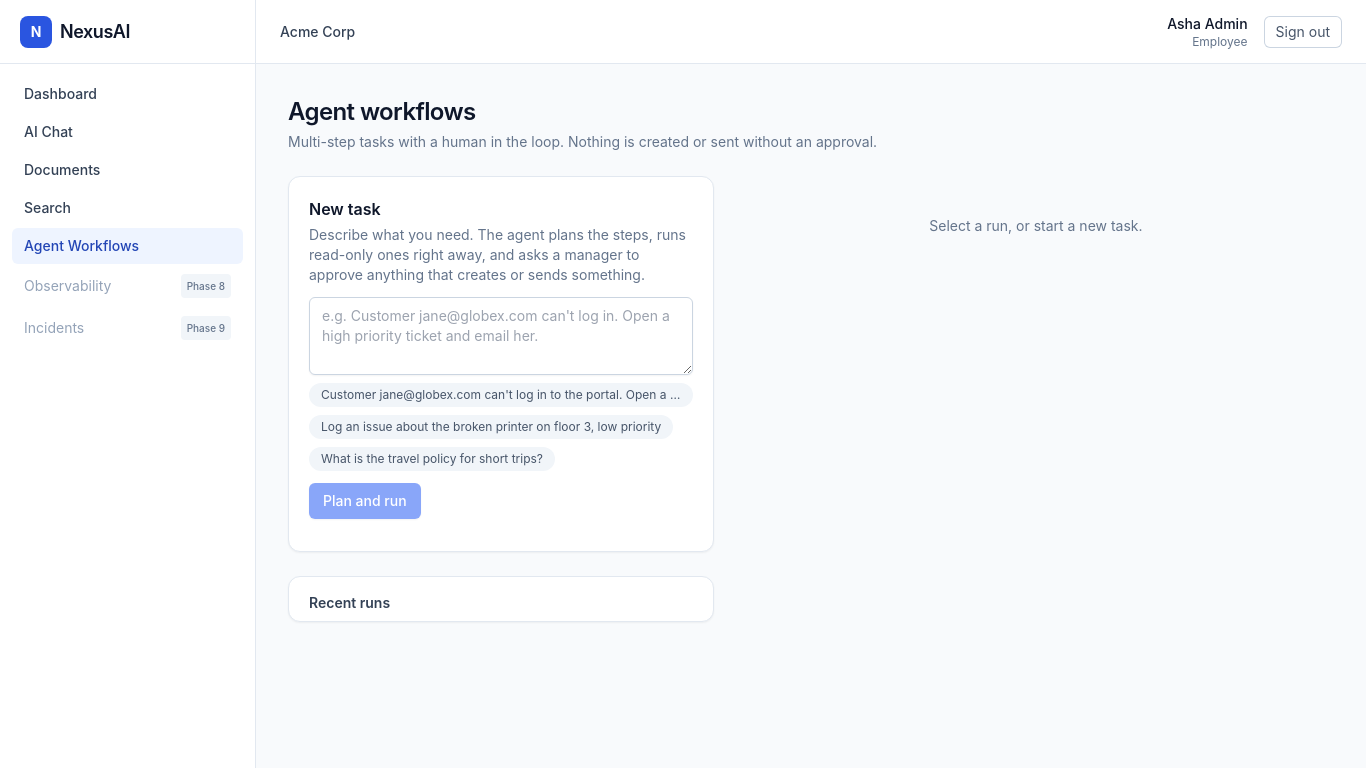
Test case: Agent workflows › plans a task and shows the steps waiting for approval
Click the button "Customer jane@globex.com can't log in" at (501, 395), box [309, 383, 693, 407]
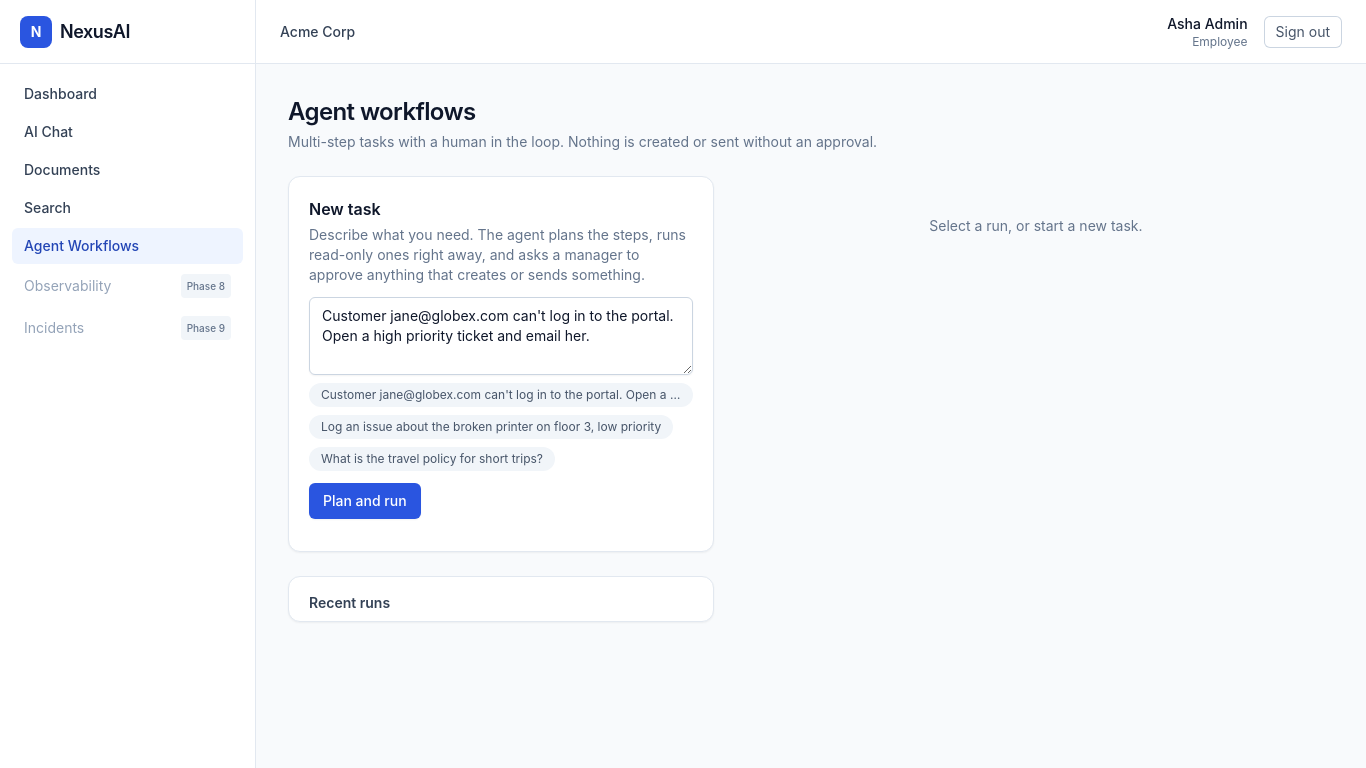
Click the button "Plan and run" at (365, 501), box [309, 483, 421, 519]
(page scrolled)
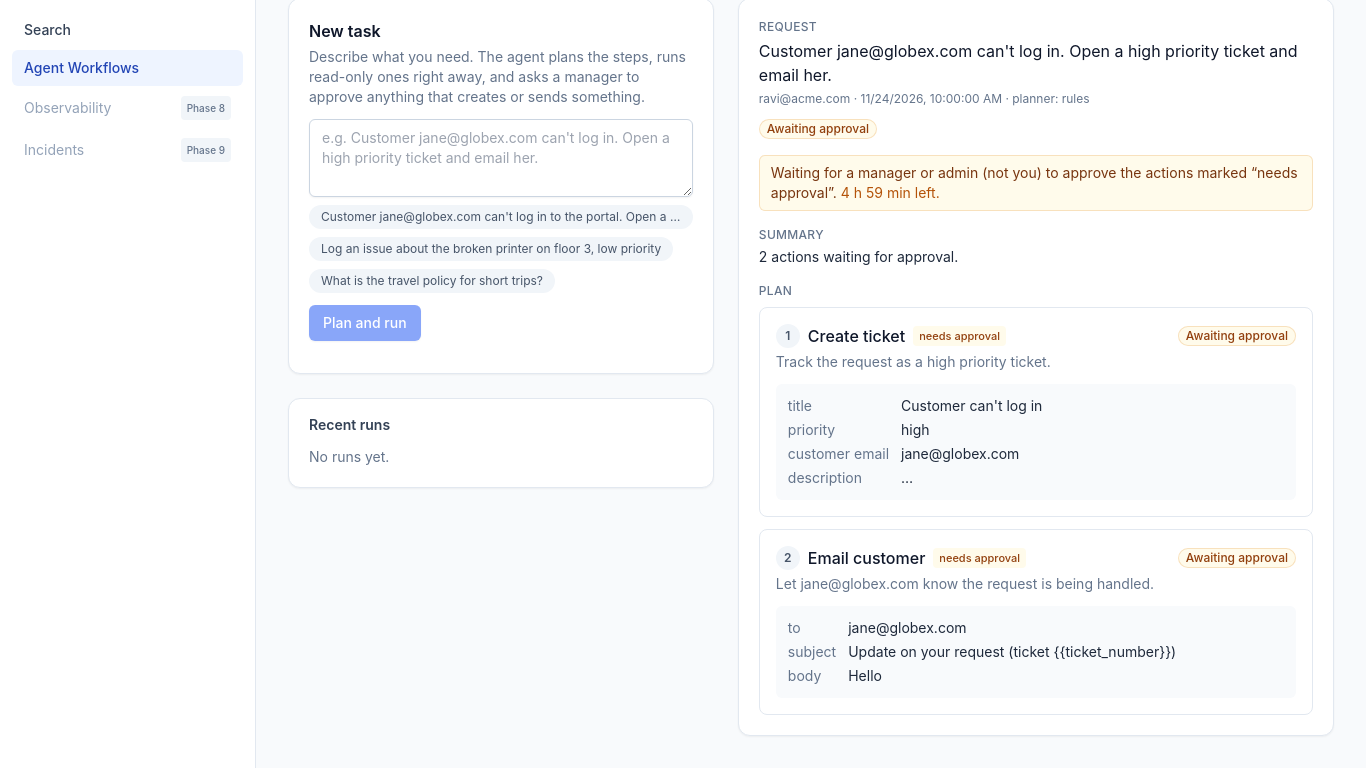
Expected: the text "Waiting for a manager or admin (not you) to approve" is shown, [771, 164, 1298, 201]
Expected: the text "Create ticket" is shown, [808, 324, 905, 348]
Expected: the text "Email customer" is shown, [808, 546, 925, 570]
